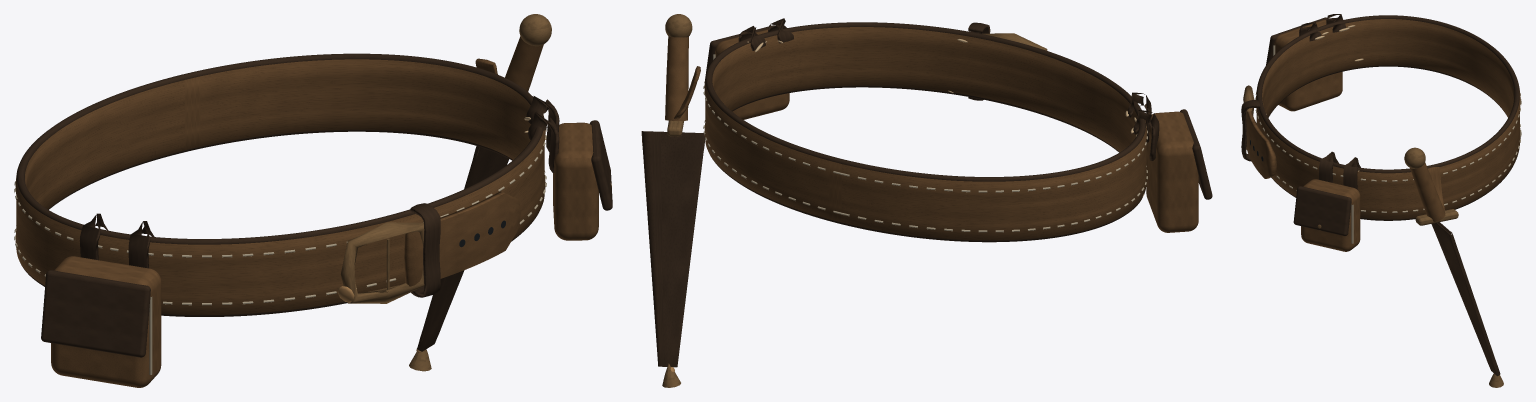
The picture shows the model from 3 angles, left to right: view 1: azimuth 30°, elevation 25°; view 2: azimuth 150°, elevation 25°; view 3: azimuth 270°, elevation 25°; orthographic projection. The views are drawn at different scales.
Parts seen in each view (by area): view 1: tanned leather, oiled strap leather, aged alloy edge, waxed linen thread; view 2: tanned leather, oiled strap leather, aged alloy edge, waxed linen thread; view 3: tanned leather, oiled strap leather, aged alloy edge, waxed linen thread.
Boxes of the visible parts, left/top/right/bottom form: tanned leather: left=15, top=36, right=598, bottom=387; oiled strap leather: left=17, top=53, right=612, bottom=357; aged alloy edge: left=340, top=14, right=611, bottom=371; waxed linen thread: left=14, top=129, right=546, bottom=374; tanned leather: left=665, top=27, right=1198, bottom=240; oiled strap leather: left=641, top=18, right=1212, bottom=367; aged alloy edge: left=662, top=14, right=1047, bottom=387; waxed linen thread: left=703, top=54, right=1147, bottom=232; tanned leather: left=1246, top=19, right=1520, bottom=251; oiled strap leather: left=1241, top=14, right=1519, bottom=376; aged alloy edge: left=1243, top=85, right=1503, bottom=387; waxed linen thread: left=1255, top=45, right=1521, bottom=243.
Bounding box in the file's own units: 0.4568 × 0.2863 × 0.2869.
Materials: 7 (4 with a texture image).
